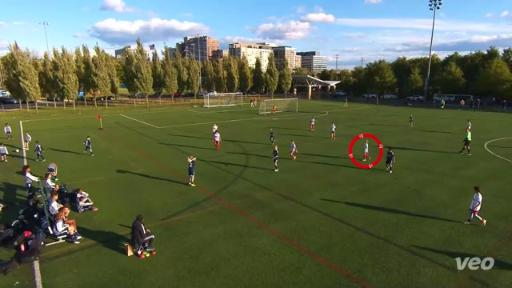highlight_overlay: (349, 133, 383, 169)
